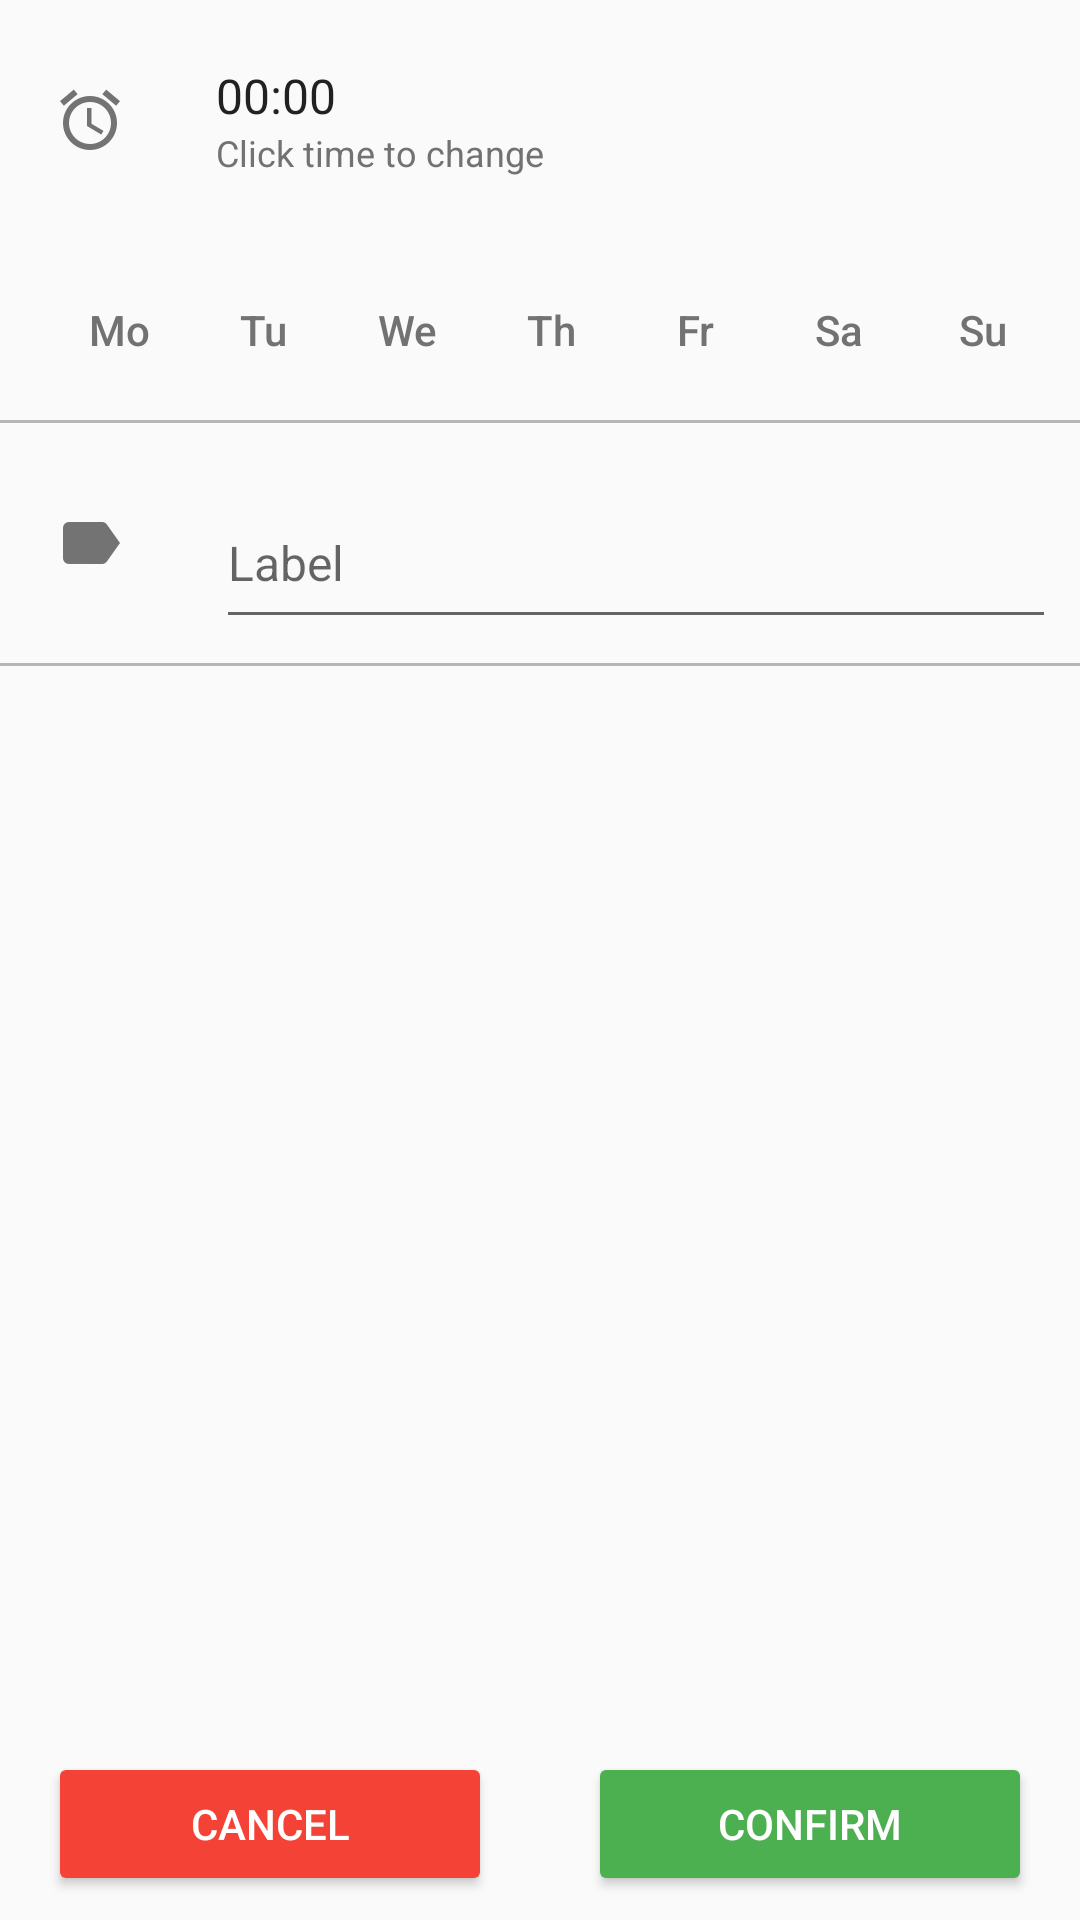

Named icons in this screenshot (1080w x 1920h) and their centers, [x,y]:
Choose a time for this alarm: [90,120]
